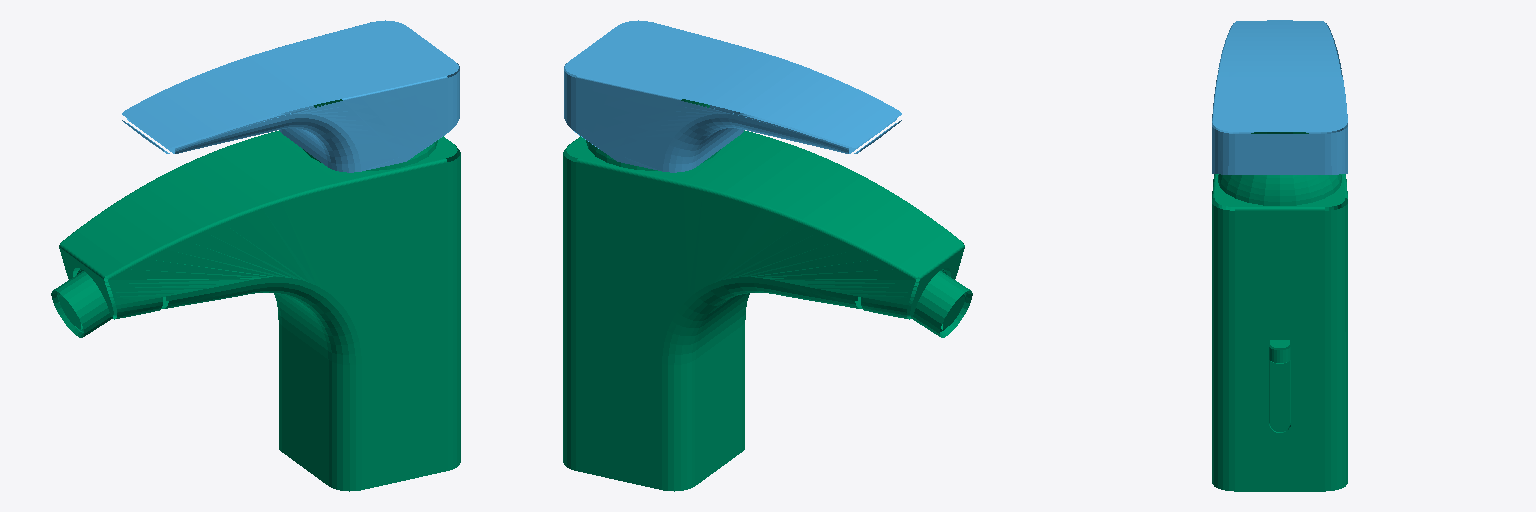
The robot description file, URDF, robot "partnet_2a7ffc2172f9a2ddb362845c6edb57fc":
<?xml version="1.0" ?>
<robot name="partnet_2a7ffc2172f9a2ddb362845c6edb57fc">
	<link name="base"/>
	<link name="link_0">
		<visual name="switch-2">
			<origin xyz="0.011122205501079568 0 0.235160205540169"/>
			<geometry>
				<mesh filename="textured_objs/original-10.obj"/>
			</geometry>
		</visual>
		<visual name="switch-2">
			<origin xyz="0.011122205501079568 0 0.235160205540169"/>
			<geometry>
				<mesh filename="textured_objs/original-5.obj"/>
			</geometry>
		</visual>
		<visual name="switch-2">
			<origin xyz="0.011122205501079568 0 0.235160205540169"/>
			<geometry>
				<mesh filename="textured_objs/original-7.obj"/>
			</geometry>
		</visual>
		<visual name="switch-2">
			<origin xyz="0.011122205501079568 0 0.235160205540169"/>
			<geometry>
				<mesh filename="textured_objs/original-6.obj"/>
			</geometry>
		</visual>
		<visual name="switch-2">
			<origin xyz="0.011122205501079568 0 0.235160205540169"/>
			<geometry>
				<mesh filename="textured_objs/original-9.obj"/>
			</geometry>
		</visual>
		<visual name="switch-2">
			<origin xyz="0.011122205501079568 0 0.235160205540169"/>
			<geometry>
				<mesh filename="textured_objs/original-11.obj"/>
			</geometry>
		</visual>
		<visual name="switch-2">
			<origin xyz="0.011122205501079568 0 0.235160205540169"/>
			<geometry>
				<mesh filename="textured_objs/original-15.obj"/>
			</geometry>
		</visual>
		<collision>
			<origin xyz="0.011122205501079568 0 0.235160205540169"/>
			<geometry>
				<mesh filename="textured_objs/original-10.obj"/>
			</geometry>
		</collision>
		<collision>
			<origin xyz="0.011122205501079568 0 0.235160205540169"/>
			<geometry>
				<mesh filename="textured_objs/original-5.obj"/>
			</geometry>
		</collision>
		<collision>
			<origin xyz="0.011122205501079568 0 0.235160205540169"/>
			<geometry>
				<mesh filename="textured_objs/original-7.obj"/>
			</geometry>
		</collision>
		<collision>
			<origin xyz="0.011122205501079568 0 0.235160205540169"/>
			<geometry>
				<mesh filename="textured_objs/original-6.obj"/>
			</geometry>
		</collision>
		<collision>
			<origin xyz="0.011122205501079568 0 0.235160205540169"/>
			<geometry>
				<mesh filename="textured_objs/original-9.obj"/>
			</geometry>
		</collision>
		<collision>
			<origin xyz="0.011122205501079568 0 0.235160205540169"/>
			<geometry>
				<mesh filename="textured_objs/original-11.obj"/>
			</geometry>
		</collision>
		<collision>
			<origin xyz="0.011122205501079568 0 0.235160205540169"/>
			<geometry>
				<mesh filename="textured_objs/original-15.obj"/>
			</geometry>
		</collision>
	</link>
	<joint name="joint_0" type="revolute">
		<origin xyz="-0.011122205501079568 0 -0.235160205540169"/>
		<axis xyz="0 -1 0"/>
		<child link="link_0"/>
		<parent link="link_1"/>
		<limit lower="-1.5707963267948966" upper="1.5707963267948966"/>
	</joint>
	<link name="link_1">
		<visual name="vertical_support-10">
			<origin xyz="0 0 0"/>
			<geometry>
				<mesh filename="textured_objs/new-0.obj"/>
			</geometry>
		</visual>
		<visual name="vertical_support-10">
			<origin xyz="0 0 0"/>
			<geometry>
				<mesh filename="textured_objs/original-8.obj"/>
			</geometry>
		</visual>
		<visual name="vertical_support-10">
			<origin xyz="0 0 0"/>
			<geometry>
				<mesh filename="textured_objs/original-3.obj"/>
			</geometry>
		</visual>
		<visual name="vertical_support-10">
			<origin xyz="0 0 0"/>
			<geometry>
				<mesh filename="textured_objs/original-1.obj"/>
			</geometry>
		</visual>
		<visual name="vertical_support-10">
			<origin xyz="0 0 0"/>
			<geometry>
				<mesh filename="textured_objs/original-2.obj"/>
			</geometry>
		</visual>
		<visual name="vertical_support-10">
			<origin xyz="0 0 0"/>
			<geometry>
				<mesh filename="textured_objs/original-4.obj"/>
			</geometry>
		</visual>
		<visual name="tube-8">
			<origin xyz="0 0 0"/>
			<geometry>
				<mesh filename="textured_objs/new-3.obj"/>
			</geometry>
		</visual>
		<visual name="mouth-9">
			<origin xyz="0 0 0"/>
			<geometry>
				<mesh filename="textured_objs/original-21.obj"/>
			</geometry>
		</visual>
		<visual name="mouth-9">
			<origin xyz="0 0 0"/>
			<geometry>
				<mesh filename="textured_objs/original-20.obj"/>
			</geometry>
		</visual>
		<visual name="mouth-9">
			<origin xyz="0 0 0"/>
			<geometry>
				<mesh filename="textured_objs/original-25.obj"/>
			</geometry>
		</visual>
		<visual name="mouth-9">
			<origin xyz="0 0 0"/>
			<geometry>
				<mesh filename="textured_objs/original-17.obj"/>
			</geometry>
		</visual>
		<visual name="mouth-9">
			<origin xyz="0 0 0"/>
			<geometry>
				<mesh filename="textured_objs/original-22.obj"/>
			</geometry>
		</visual>
		<collision>
			<origin xyz="0 0 0"/>
			<geometry>
				<mesh filename="textured_objs/new-0.obj"/>
			</geometry>
		</collision>
		<collision>
			<origin xyz="0 0 0"/>
			<geometry>
				<mesh filename="textured_objs/original-8.obj"/>
			</geometry>
		</collision>
		<collision>
			<origin xyz="0 0 0"/>
			<geometry>
				<mesh filename="textured_objs/original-3.obj"/>
			</geometry>
		</collision>
		<collision>
			<origin xyz="0 0 0"/>
			<geometry>
				<mesh filename="textured_objs/original-1.obj"/>
			</geometry>
		</collision>
		<collision>
			<origin xyz="0 0 0"/>
			<geometry>
				<mesh filename="textured_objs/original-2.obj"/>
			</geometry>
		</collision>
		<collision>
			<origin xyz="0 0 0"/>
			<geometry>
				<mesh filename="textured_objs/original-4.obj"/>
			</geometry>
		</collision>
		<collision>
			<origin xyz="0 0 0"/>
			<geometry>
				<mesh filename="textured_objs/new-3.obj"/>
			</geometry>
		</collision>
		<collision>
			<origin xyz="0 0 0"/>
			<geometry>
				<mesh filename="textured_objs/original-21.obj"/>
			</geometry>
		</collision>
		<collision>
			<origin xyz="0 0 0"/>
			<geometry>
				<mesh filename="textured_objs/original-20.obj"/>
			</geometry>
		</collision>
		<collision>
			<origin xyz="0 0 0"/>
			<geometry>
				<mesh filename="textured_objs/original-25.obj"/>
			</geometry>
		</collision>
		<collision>
			<origin xyz="0 0 0"/>
			<geometry>
				<mesh filename="textured_objs/original-17.obj"/>
			</geometry>
		</collision>
		<collision>
			<origin xyz="0 0 0"/>
			<geometry>
				<mesh filename="textured_objs/original-22.obj"/>
			</geometry>
		</collision>
	</link>
	<joint name="joint_1" type="fixed">
		<origin rpy="1.570796326794897 0 -1.570796326794897" xyz="0 0 0"/>
		<child link="link_1"/>
		<parent link="base"/>
	</joint>
</robot>

--- What the picture shows (computed from the rendered views, not written in the file) ---
Views: 3 orthographic renders of the robot side by side, from view 1: azimuth 30°, elevation 25°; view 2: azimuth 150°, elevation 25°; view 3: azimuth 270°, elevation 25°.
Robot: partnet_2a7ffc2172f9a2ddb362845c6edb57fc — 3 links, 2 joints (1 revolute, 1 fixed); root link base; default pose: every joint at zero.
Links seen in each view (by area): view 1: link_1, link_0; view 2: link_1, link_0; view 3: link_1, link_0.
Link boxes in pixels (x1,y1,x2,y2): link_1: (51, 99, 460, 491); link_0: (122, 20, 459, 172); link_1: (563, 99, 972, 491); link_0: (564, 20, 901, 172); link_1: (1212, 132, 1347, 491); link_0: (1212, 20, 1347, 174).
Size in the robot's own frame: 1.54 by 0.5079 by 1.47 metres.
19 mesh visuals loaded from 19 distinct referenced files (19 OBJ).
